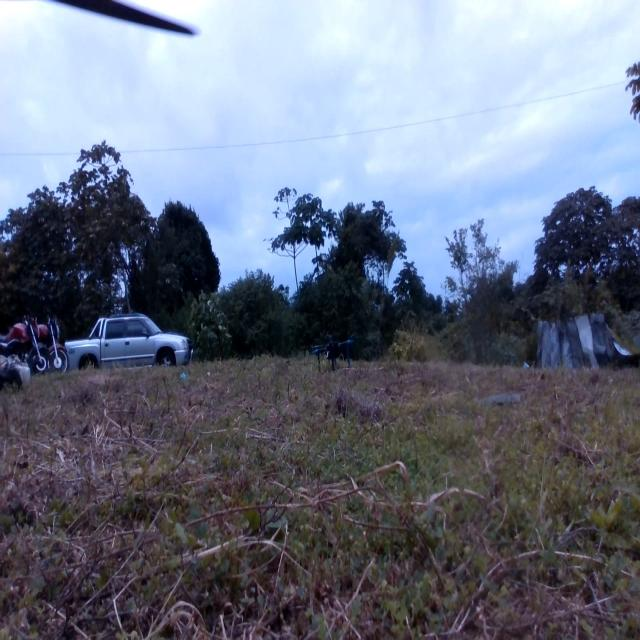-uav-: (308, 329, 362, 381)
